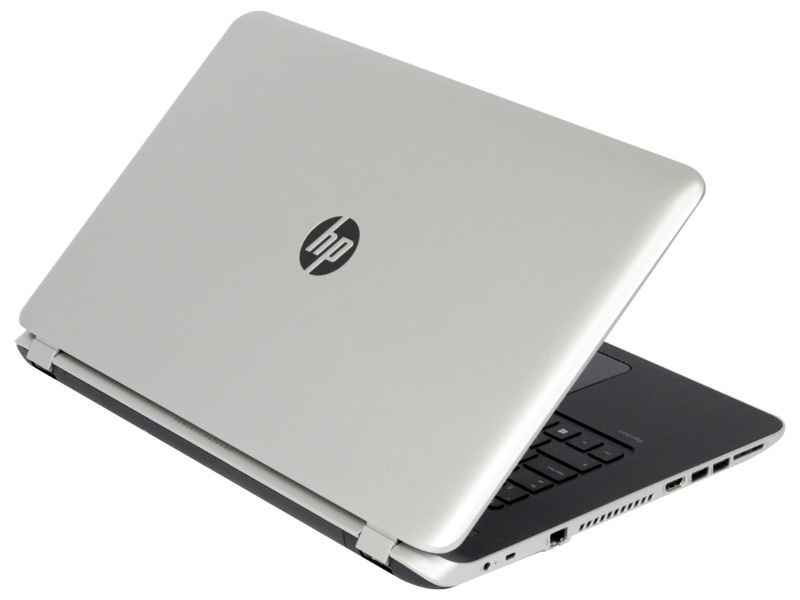hp: (301, 213, 354, 281)
